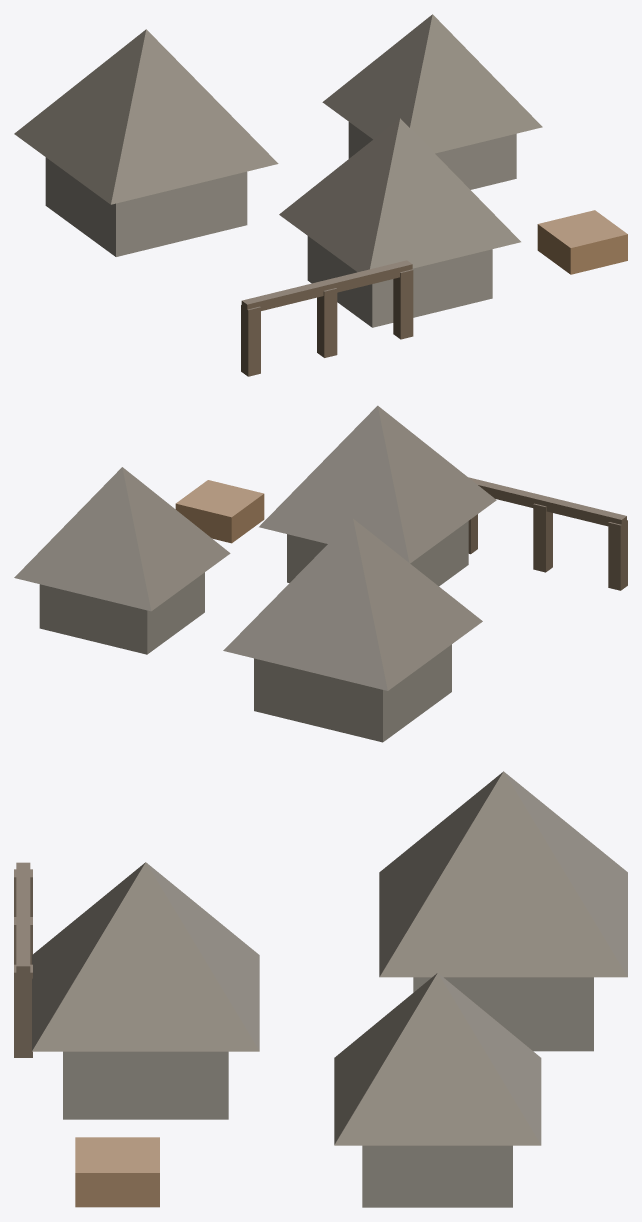
File: tribal.gltf
3 renders of one model, top to bottom at view 1: azimuth 30°, elevation 25°; view 2: azimuth 150°, elevation 25°; view 3: azimuth 270°, elevation 25°, orthographic. The views are drawn at different scales.
Parts seen in each view (by area): view 1: building-tribal; view 2: building-tribal; view 3: building-tribal.
Boxes of the visible parts, x1=… form: building-tribal: x1=14, y1=14, x2=627, y2=376; building-tribal: x1=14, y1=405, x2=627, y2=742; building-tribal: x1=14, y1=771, x2=627, y2=1207.
Bounding box in the file's own units: 0.66 × 0.28 × 0.652.
